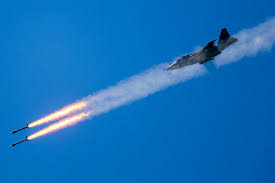ten_lua: (8, 135, 40, 149), (9, 126, 38, 133)
